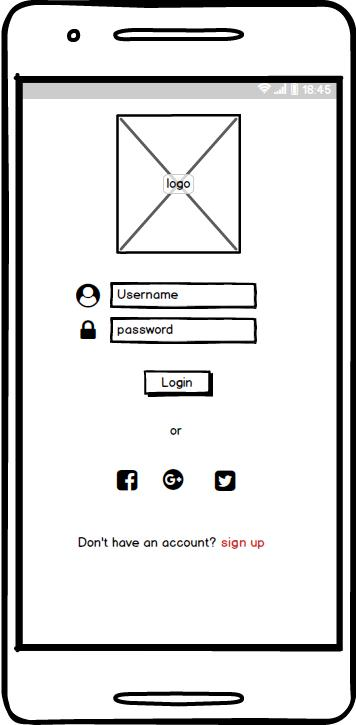EditText: (110, 317, 258, 345), (110, 282, 257, 310)
Icon: (77, 284, 101, 309), (117, 470, 139, 491), (163, 469, 184, 490), (215, 470, 236, 491), (80, 320, 98, 340)
Image: (117, 115, 241, 254)
Text: (79, 536, 265, 550), (170, 427, 183, 436)
TextButton: (144, 370, 214, 397)
